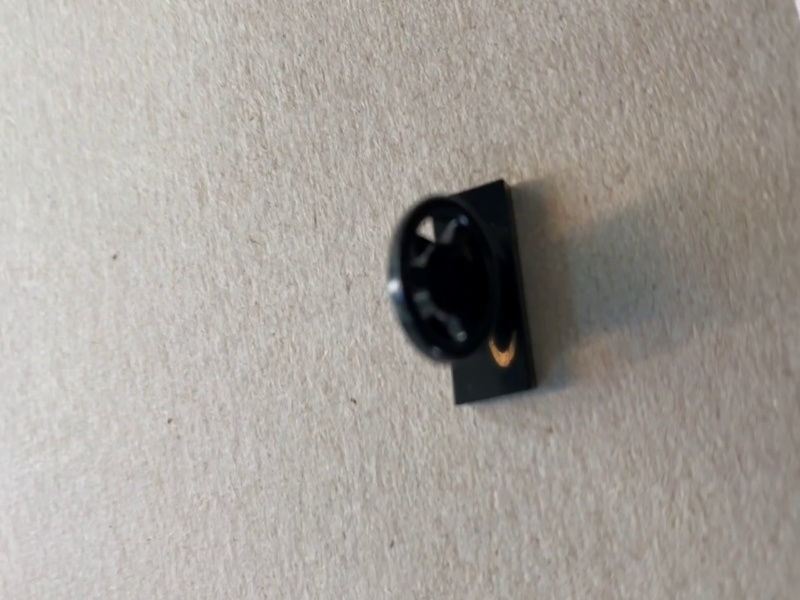steering wheel: (385, 178, 540, 406)
